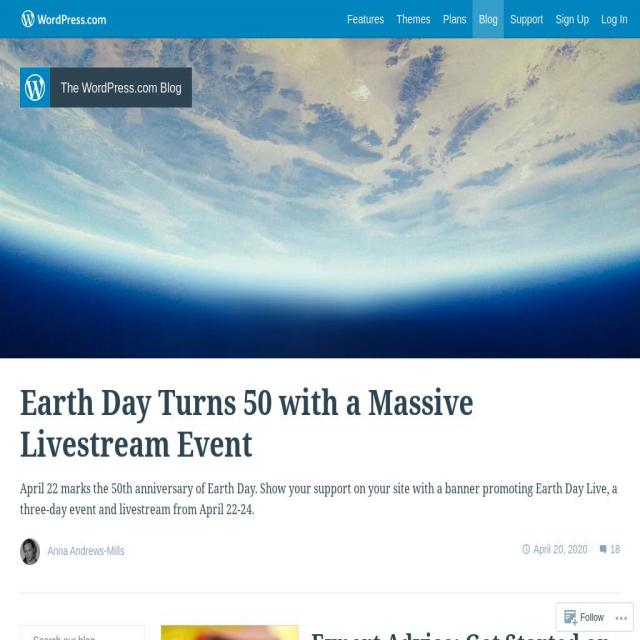login-option: (599, 5, 630, 35)
navigation-links: (335, 4, 640, 38)
sign-up-option: (555, 3, 593, 35)
